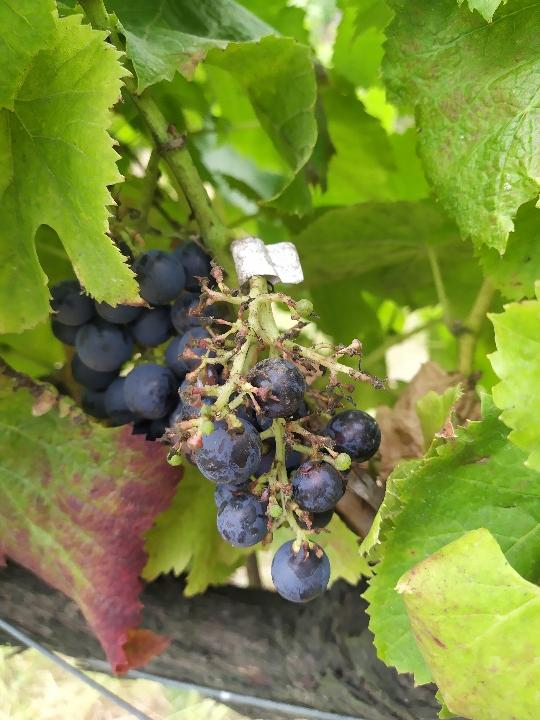grape: (157, 263, 388, 607)
